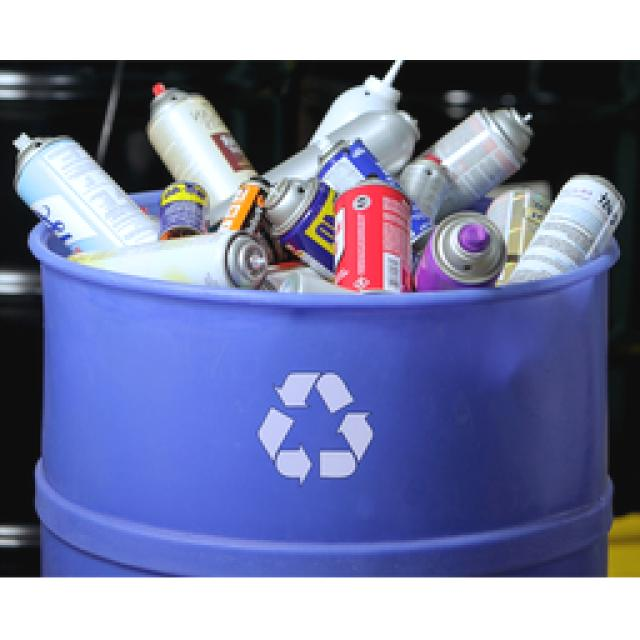B3: (11, 129, 157, 257), (400, 104, 533, 225), (146, 80, 259, 221), (72, 227, 274, 291), (317, 141, 430, 254), (516, 175, 623, 287), (414, 212, 506, 292)
